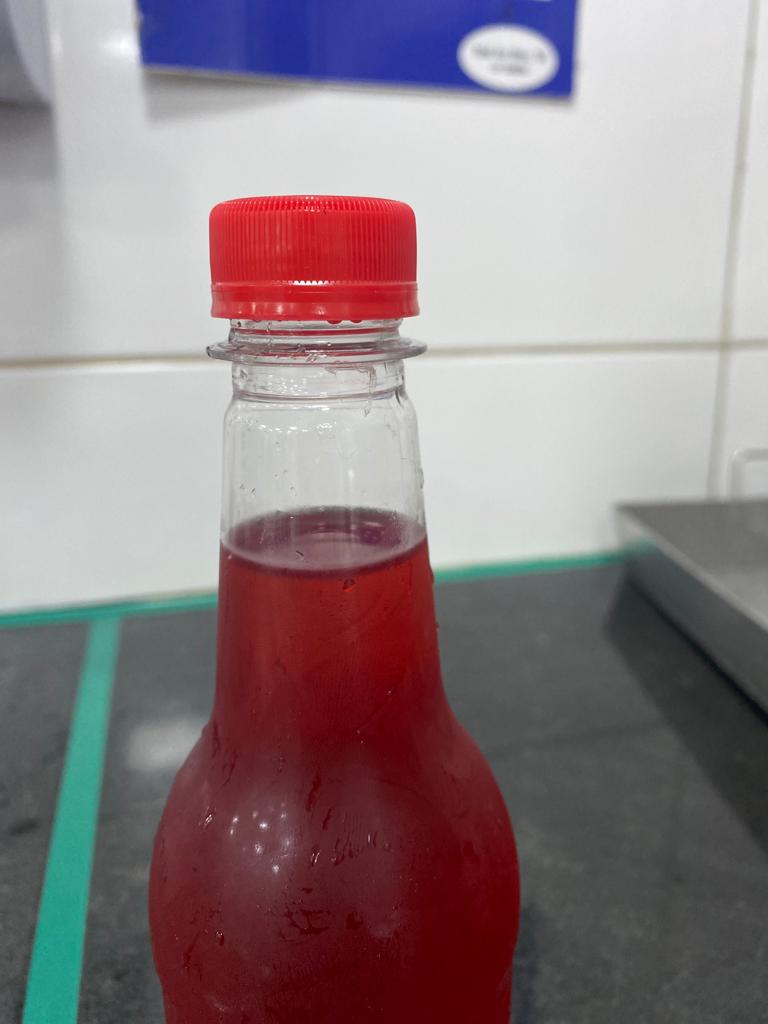Good Cap: (76, 127, 539, 403)
